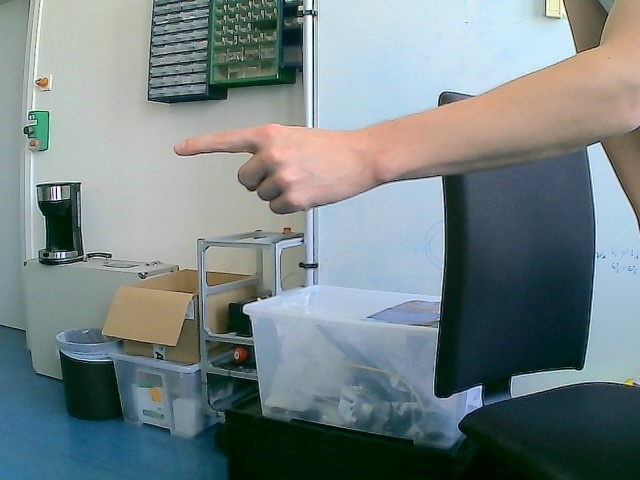right: (172, 121, 374, 215)
